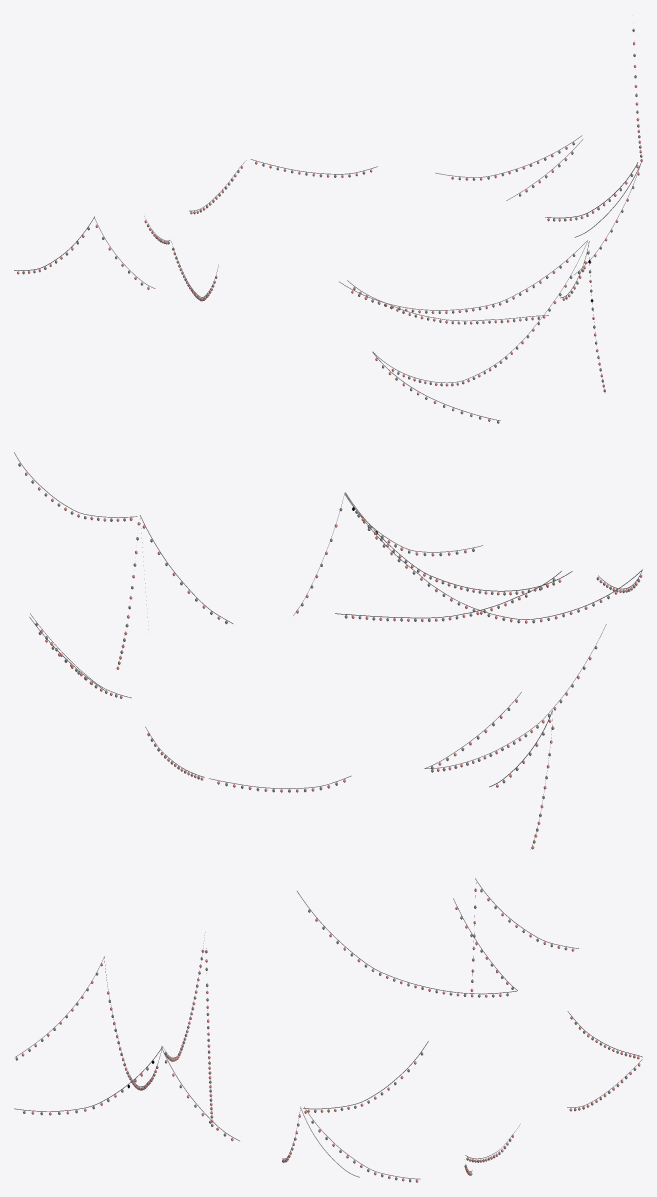
Rendered from SM_ENV_LKNVLD_Event_HL_Lamps_B.gltf.
3 views of the same model, one above another, from view 1: azimuth 30°, elevation 25°; view 2: azimuth 150°, elevation 25°; view 3: azimuth 270°, elevation 25° (orthographic). The views are drawn at different scales.
Parts seen in each view (by area): view 1: SM_ENV_LKNVLD_Event_HL_Lamps_B; view 2: SM_ENV_LKNVLD_Event_HL_Lamps_B; view 3: SM_ENV_LKNVLD_Event_HL_Lamps_B.
Part boxes in pixels (x1,y1,x2,y2): SM_ENV_LKNVLD_Event_HL_Lamps_B: [14, 28, 642, 423]; SM_ENV_LKNVLD_Event_HL_Lamps_B: [14, 452, 642, 849]; SM_ENV_LKNVLD_Event_HL_Lamps_B: [14, 878, 642, 1182].
Bounding box in the file's own units: 105 × 34.21 × 102.
